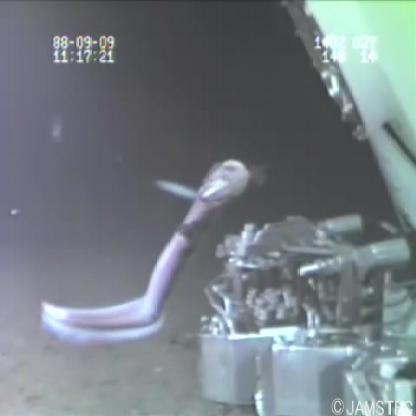Bio: (34, 149, 256, 351)
Rov: (191, 209, 416, 414)
